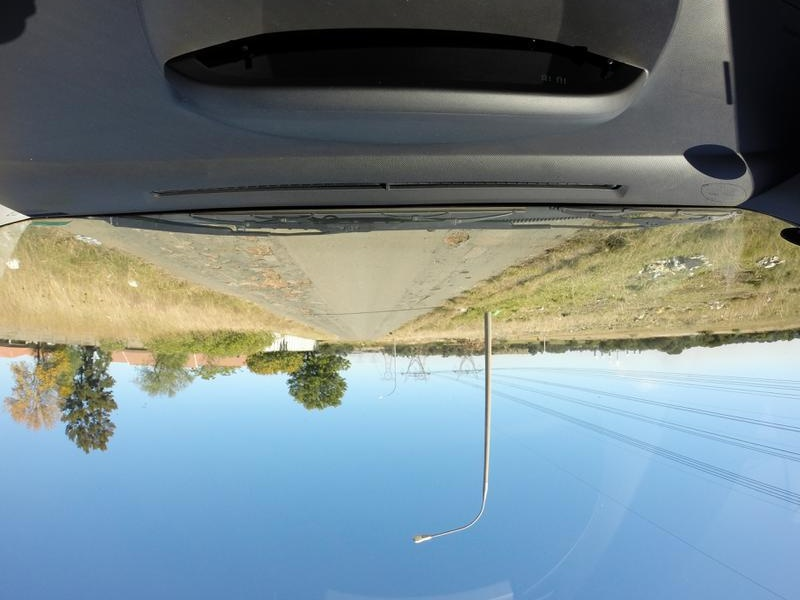pothole: (257, 275, 318, 301), (430, 231, 473, 250), (232, 244, 279, 260), (198, 243, 220, 268), (171, 230, 185, 256)
